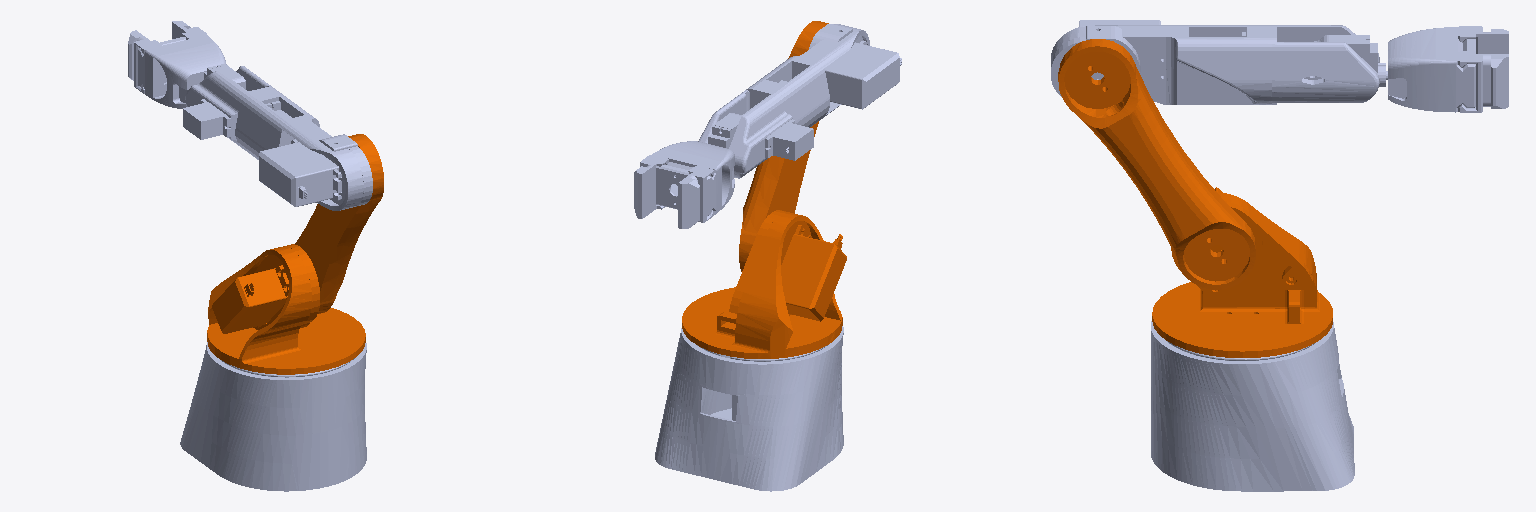
URDF robot description (Drago):
<?xml version="1.0" encoding="utf-8"?>
<robot
  name="Drago">
  <link
    name="base_link">
    <inertial>
      <origin
        xyz="-7.72856457749698E-05 0.000985506421665394 0.0316640950040682"
        rpy="0 0 0" />
      <mass
        value="0.1474375874572" />
      <inertia
        ixx="0.000241687171403802"
        ixy="2.76044882976438E-07"
        ixz="5.3745744400699E-09"
        iyy="0.000213930288448861"
        iyz="7.09557385158071E-06"
        izz="0.000309365156484479" />
    </inertial>
    <visual>
      <origin
        xyz="0 0 0"
        rpy="0 0 0" />
      <geometry>
        <mesh
          filename="package://drago_description_pkg/meshes/base_link.STL" />
      </geometry>
      <material
        name="">
        <color
          rgba="0.792156862745098 0.819607843137255 0.933333333333333 1" />
      </material>
    </visual>
    <collision>
      <origin
        xyz="0 0 0"
        rpy="0 0 0" />
      <geometry>
        <mesh
          filename="package://drago_description_pkg/meshes/base_link.STL" />
      </geometry>
    </collision>
  </link>
  <link
    name="Waist_link">
    <inertial>
      <origin
        xyz="-0.0126076694523848 -0.000689380789856253 0.020405315651427"
        rpy="0 0 0" />
      <mass
        value="0.114312272517247" />
      <inertia
        ixx="7.49456466486768E-05"
        ixy="2.03547014845499E-06"
        ixz="3.5602677219693E-06"
        iyy="5.85772537754704E-05"
        iyz="7.34921578534803E-06"
        izz="7.44043523111878E-05" />
    </inertial>
    <visual>
      <origin
        xyz="0 0 0"
        rpy="0 0 0" />
      <geometry>
        <mesh
          filename="package://drago_description_pkg/meshes/Waist_link.STL" />
      </geometry>
      <material
        name="">
        <color
          rgba="0.909803921568627 0.443137254901961 0.0313725490196078 1" />
      </material>
    </visual>
    <collision>
      <origin
        xyz="0 0 0"
        rpy="0 0 0" />
      <geometry>
        <mesh
          filename="package://drago_description_pkg/meshes/Waist_link.STL" />
      </geometry>
    </collision>
  </link>
  <joint
    name="Waist_joint"
    type="revolute">
    <origin
      xyz="0 0.000299999804291295 0.0823428680948091"
      rpy="0 0 0" />
    <parent
      link="base_link" />
    <child
      link="Waist_link" />
    <axis
      xyz="0 0 1" />
    <limit
      lower="-1.57"
      upper="1.57"
      effort="1"
      velocity="3" />
    <dynamics
      damping="1"
      friction="1" />
  </joint>
  <link
    name="Shoulder_link">
    <inertial>
      <origin
        xyz="-1.12699373916447E-07 0.0600135170515176 0.00480459549380981"
        rpy="0 0 0" />
      <mass
        value="0.0683063019704699" />
      <inertia
        ixx="0.000111335443757709"
        ixy="1.95406984549249E-10"
        ixz="6.26284334982906E-11"
        iyy="9.89041420319741E-06"
        iyz="-1.38128948633086E-08"
        izz="0.000116571269127672" />
    </inertial>
    <visual>
      <origin
        xyz="0 0 0"
        rpy="0 0 0" />
      <geometry>
        <mesh
          filename="package://drago_description_pkg/meshes/Shoulder_link.STL" />
      </geometry>
      <material
        name="">
        <color
          rgba="0.909803921568627 0.447058823529412 0.0431372549019608 1" />
      </material>
    </visual>
    <collision>
      <origin
        xyz="0 0 0"
        rpy="0 0 0" />
      <geometry>
        <mesh
          filename="package://drago_description_pkg/meshes/Shoulder_link.STL" />
      </geometry>
    </collision>
  </link>
  <joint
    name="Shoulder_joint"
    type="revolute">
    <origin
      xyz="0.00470000000000012 -0.01391 0.0402799999999999"
      rpy="1.5707963267949 -0.559711205792866 1.5707963267949" />
    <parent
      link="Waist_link" />
    <child
      link="Shoulder_link" />
    <axis
      xyz="0 0 -1" />
    <limit
      lower="-1.31"
      upper="2.5"
      effort="1"
      velocity="3" />
  </joint>
  <link
    name="Elbow_link">
    <inertial>
      <origin
        xyz="0.0346159193653191 -6.32510692880062E-05 -0.0207878297998635"
        rpy="0 0 0" />
      <mass
        value="0.0997434531792725" />
      <inertia
        ixx="1.818428969751E-05"
        ixy="-4.57160987594351E-08"
        ixz="9.29775106159709E-07"
        iyy="6.97565602777627E-05"
        iyz="-3.94275296036223E-07"
        izz="7.07521243226271E-05" />
    </inertial>
    <visual>
      <origin
        xyz="0 0 0"
        rpy="0 0 0" />
      <geometry>
        <mesh
          filename="package://drago_description_pkg/meshes/Elbow_link.STL" />
      </geometry>
      <material
        name="">
        <color
          rgba="0.792156862745098 0.819607843137255 0.933333333333333 1" />
      </material>
    </visual>
    <collision>
      <origin
        xyz="0 0 0"
        rpy="0 0 0" />
      <geometry>
        <mesh
          filename="package://drago_description_pkg/meshes/Elbow_link.STL" />
      </geometry>
    </collision>
  </link>
  <joint
    name="Elbow_joint"
    type="revolute">
    <origin
      xyz="0 0.12 0"
      rpy="0 0 -0.559711205792866" />
    <parent
      link="Shoulder_link" />
    <child
      link="Elbow_link" />
    <axis
      xyz="0 0 -1" />
    <limit
      lower="-4"
      upper="0.12"
      effort="1"
      velocity="3" />
  </joint>
  <link
    name="Wrist_1_link">
    <inertial>
      <origin
        xyz="0.0233567454985734 0.00366255184276276 -0.00631749983504008"
        rpy="0 0 0" />
      <mass
        value="0.0364225917173961" />
      <inertia
        ixx="7.1636312023005E-06"
        ixy="4.57023572830182E-07"
        ixz="3.8874307928469E-07"
        iyy="1.29519866849324E-05"
        iyz="2.94918004449321E-08"
        izz="1.12621365094926E-05" />
    </inertial>
    <visual>
      <origin
        xyz="0 0 0"
        rpy="0 0 0" />
      <geometry>
        <mesh
          filename="package://drago_description_pkg/meshes/Wrist_1_link.STL" />
      </geometry>
      <material
        name="">
        <color
          rgba="0.792156862745098 0.819607843137255 0.933333333333333 1" />
      </material>
    </visual>
    <collision>
      <origin
        xyz="0 0 0"
        rpy="0 0 0" />
      <geometry>
        <mesh
          filename="package://drago_description_pkg/meshes/Wrist_1_link.STL" />
      </geometry>
    </collision>
  </link>
  <joint
    name="Wrist_1_joint"
    type="revolute">
    <origin
      xyz="0.0944000000000003 -0.00500000000000012 -0.0150000000000001"
      rpy="0 0 0" />
    <parent
      link="Elbow_link" />
    <child
      link="Wrist_1_link" />
    <axis
      xyz="-1 0 0" />
    <limit
      lower="-1.57"
      upper="1.57"
      effort="1"
      velocity="3" />
  </joint>
  <link
    name="Wrist_2_link">
    <inertial>
      <origin
        xyz="0.0168531926533761 0.000122222985653231 -0.00156810835529166"
        rpy="0 0 0" />
      <mass
        value="0.0139246019270835" />
      <inertia
        ixx="1.16538358935657E-06"
        ixy="-9.29033431222823E-09"
        ixz="-5.1108087154368E-08"
        iyy="1.11291360778585E-06"
        iyz="9.89135170487405E-09"
        izz="1.89566093244876E-06" />
    </inertial>
    <visual>
      <origin
        xyz="0 0 0"
        rpy="0 0 0" />
      <geometry>
        <mesh
          filename="package://drago_description_pkg/meshes/Wrist_2_link.STL" />
      </geometry>
      <material
        name="">
        <color
          rgba="0.792156862745098 0.819607843137255 0.933333333333333 1" />
      </material>
    </visual>
    <collision>
      <origin
        xyz="0 0 0"
        rpy="0 0 0" />
      <geometry>
        <mesh
          filename="package://drago_description_pkg/meshes/Wrist_2_link.STL" />
      </geometry>
    </collision>
  </link>
  <joint
    name="Wrist_2_joint"
    type="revolute">
    <origin
      xyz="0.0208399325599607 0.00340387650924096 0.00127964919234359"
      rpy="0 0 0" />
    <parent
      link="Wrist_1_link" />
    <child
      link="Wrist_2_link" />
    <axis
      xyz="0 0 -1" />
    <limit
      lower="-1.57"
      upper="1.57"
      effort="1"
      velocity="3" />
  </joint>
  <link
    name="Effector_link">
    <inertial>
      <origin
        xyz="-2.26381413614973E-16 -5.55111512312578E-17 0.00447696690039018"
        rpy="0 0 0" />
      <mass
        value="0.0031625371291834" />
      <inertia
        ixx="6.38210417468505E-08"
        ixy="1.20792521417058E-23"
        ixz="-1.20896068150185E-22"
        iyy="2.60651552513833E-07"
        iyz="-2.70674250245187E-23"
        izz="2.7433763130509E-07" />
    </inertial>
    <visual>
      <origin
        xyz="0 0 0"
        rpy="0 0 0" />
      <geometry>
        <mesh
          filename="package://drago_description_pkg/meshes/Effector_link.STL" />
      </geometry>
      <material
        name="">
        <color
          rgba="0.792156862745098 0.819607843137255 0.933333333333333 1" />
      </material>
    </visual>
    <collision>
      <origin
        xyz="0 0 0"
        rpy="0 0 0" />
      <geometry>
        <mesh
          filename="package://drago_description_pkg/meshes/Effector_link.STL" />
      </geometry>
    </collision>
  </link>
  <joint
    name="Effector_joint"
    type="revolute">
    <origin
      xyz="0.0408435294675011 -0.00511048363110789 -0.00140782639546167"
      rpy="0 1.5707963267949 0" />
    <parent
      link="Wrist_2_link" />
    <child
      link="Effector_link" />
    <axis
      xyz="0 0 1" />
    <limit
      lower="-1.57"
      upper="1.57"
      effort="1"
      velocity="3" />
  </joint>
  <link
    name="Gripper_link">
    <inertial>
      <origin
        xyz="-0.000106292521820447 7.00052063247747E-05 -0.0308465298604367"
        rpy="0 0 0" />
      <mass
        value="0.0338622957317034" />
      <inertia
        ixx="7.91995838822288E-06"
        ixy="-2.30377262160725E-09"
        ixz="-4.69066405301153E-07"
        iyy="1.02346743518635E-05"
        iyz="2.44836828172283E-07"
        izz="8.29268801668815E-06" />
    </inertial>
    <visual>
      <origin
        xyz="0 0 0"
        rpy="0 0 0" />
      <geometry>
        <mesh
          filename="package://drago_description_pkg/meshes/Gripper_link.STL" />
      </geometry>
      <material
        name="">
        <color
          rgba="0.792156862745098 0.819607843137255 0.933333333333333 1" />
      </material>
    </visual>
    <collision>
      <origin
        xyz="0 0 0"
        rpy="0 0 0" />
      <geometry>
        <mesh
          filename="package://drago_description_pkg/meshes/Gripper_link.STL" />
      </geometry>
    </collision>
  </link>
  <joint
    name="Gripper_joint"
    type="fixed">
    <origin
      xyz="0.000766471836677465 0.00373197464508285 0.0551499896883955"
      rpy="0 0 0" />
    <parent
      link="Effector_link" />
    <child
      link="Gripper_link" />
    <axis
      xyz="0 0 0" />
  </joint>
  <link
    name="Right_Claw_link">
    <inertial>
      <origin
        xyz="-0.00243565880725227 -2.1791745075106E-09 0.0060195460687709"
        rpy="0 0 0" />
      <mass
        value="0.00458904721552371" />
      <inertia
        ixx="4.32117400461652E-07"
        ixy="-6.24226617680927E-14"
        ixz="-5.88521738706436E-09"
        iyy="2.30501583735766E-07"
        iyz="4.21317731608207E-15"
        izz="5.92146413710267E-07" />
    </inertial>
    <visual>
      <origin
        xyz="0 0 0"
        rpy="0 0 0" />
      <geometry>
        <mesh
          filename="package://drago_description_pkg/meshes/Right_Claw_link.STL" />
      </geometry>
      <material
        name="">
        <color
          rgba="0.792156862745098 0.819607843137255 0.933333333333333 1" />
      </material>
    </visual>
    <collision>
      <origin
        xyz="0 0 0"
        rpy="0 0 0" />
      <geometry>
        <mesh
          filename="package://drago_description_pkg/meshes/Right_Claw_link.STL" />
      </geometry>
    </collision>
  </link>
  <joint
    name="Right_Claw_joint"
    type="prismatic">
    <origin
      xyz="-0.022433 -0.0003 0"
      rpy="3.1415 -1.5708 0" />
    <parent
      link="Gripper_link" />
    <child
      link="Right_Claw_link" />
    <axis
      xyz="0 0 1" />
    <limit
      lower="0"
      upper="0.013"
      effort="0"
      velocity="0" />
  </joint>
  <link
    name="Left_Claw_link">
    <inertial>
      <origin
        xyz="-0.00243565882245883 2.17917545120017E-09 0.00601954604159792"
        rpy="0 0 0" />
      <mass
        value="0.00458904733917677" />
      <inertia
        ixx="4.32117421724389E-07"
        ixy="6.24226649182804E-14"
        ixz="-5.88521745743767E-09"
        iyy="2.30501584191406E-07"
        iyz="-4.21317889749309E-15"
        izz="5.92146434925873E-07" />
    </inertial>
    <visual>
      <origin
        xyz="0 0 0"
        rpy="0 0 0" />
      <geometry>
        <mesh
          filename="package://drago_description_pkg/meshes/Left_Claw_link.STL" />
      </geometry>
      <material
        name="">
        <color
          rgba="0.792156862745098 0.819607843137255 0.933333333333333 1" />
      </material>
    </visual>
    <collision>
      <origin
        xyz="0 0 0"
        rpy="0 0 0" />
      <geometry>
        <mesh
          filename="package://drago_description_pkg/meshes/Left_Claw_link.STL" />
      </geometry>
    </collision>
  </link>
  <joint
    name="Left_Claw_joint"
    type="prismatic">
    <origin
      xyz="0.022567 -0.0003 0"
      rpy="0 -1.5708 0" />
    <parent
      link="Gripper_link" />
    <child
      link="Left_Claw_link" />
    <axis
      xyz="0 0 1" />
    <limit
      lower="0"
      upper="0.013"
      effort="0"
      velocity="0" />
  </joint>
</robot>

--- Render facts (derived) ---
3 views of the same robot in one strip: view 1: azimuth 30°, elevation 25°; view 2: azimuth 150°, elevation 25°; view 3: azimuth 270°, elevation 25° (orthographic).
Model Drago with 10 links and 9 joints (6 revolute, 2 prismatic, 1 fixed), rooted at base_link, posed every joint at zero.
Visible links, largest first — view 1: base_link, Waist_link, Elbow_link, Shoulder_link, Gripper_link, Wrist_1_link, Left_Claw_link; view 2: base_link, Waist_link, Elbow_link, Wrist_1_link, Shoulder_link, Gripper_link, Left_Claw_link, Right_Claw_link, Wrist_2_link; view 3: base_link, Shoulder_link, Waist_link, Elbow_link, Wrist_1_link, Gripper_link, Right_Claw_link, Wrist_2_link, Left_Claw_link.
Boxes of the visible links, bbox=[...] form: base_link: bbox=[180, 342, 366, 491]; Waist_link: bbox=[207, 244, 365, 374]; Elbow_link: bbox=[235, 88, 372, 210]; Shoulder_link: bbox=[295, 134, 383, 313]; Gripper_link: bbox=[138, 35, 226, 108]; Wrist_1_link: bbox=[183, 66, 274, 148]; Left_Claw_link: bbox=[128, 30, 161, 93]; base_link: bbox=[655, 326, 843, 491]; Waist_link: bbox=[682, 210, 846, 358]; Elbow_link: bbox=[749, 24, 901, 127]; Wrist_1_link: bbox=[698, 87, 813, 178]; Shoulder_link: bbox=[739, 21, 828, 271]; Gripper_link: bbox=[652, 141, 734, 215]; Left_Claw_link: bbox=[678, 166, 713, 228]; Right_Claw_link: bbox=[634, 155, 668, 218]; Wrist_2_link: bbox=[708, 113, 741, 148]; base_link: bbox=[1151, 321, 1354, 491]; Shoulder_link: bbox=[1058, 39, 1255, 289]; Waist_link: bbox=[1152, 187, 1332, 357]; Elbow_link: bbox=[1051, 20, 1271, 104]; Wrist_1_link: bbox=[1272, 25, 1379, 104]; Gripper_link: bbox=[1388, 27, 1475, 112]; Right_Claw_link: bbox=[1458, 51, 1508, 112]; Wrist_2_link: bbox=[1304, 35, 1387, 86]; Left_Claw_link: bbox=[1458, 26, 1508, 53].
Size in the robot's own frame: 0.098 by 0.2455 by 0.2453 metres.
Meshes: 10 distinct files referenced, 10 mesh visuals loaded (10 binary STL).
